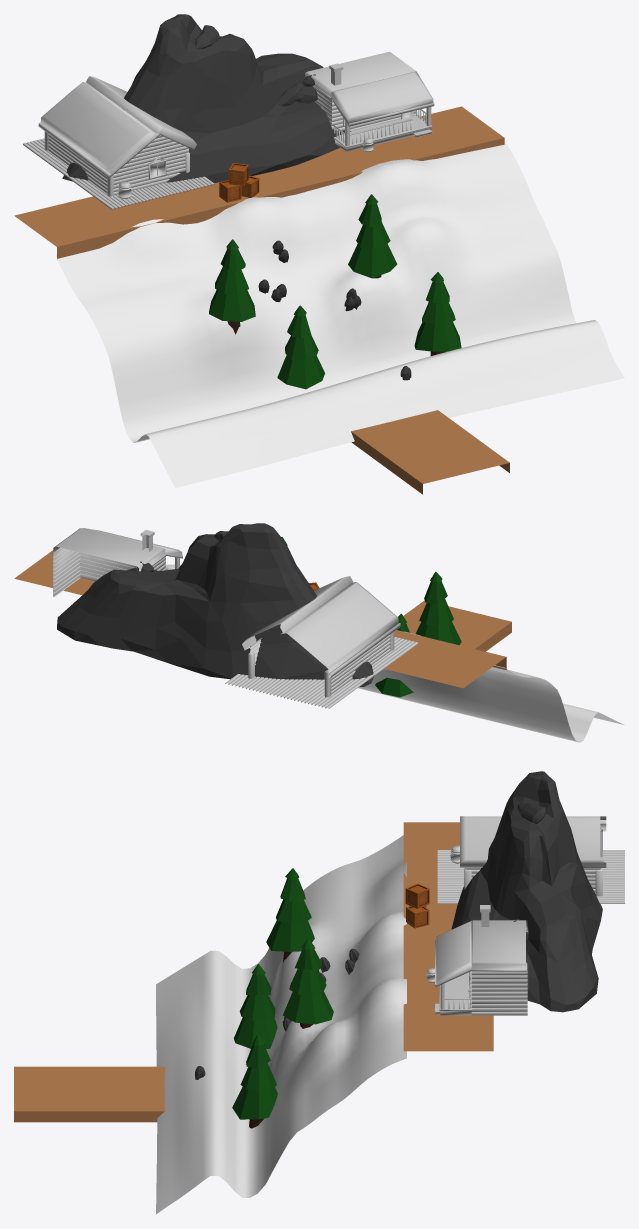
File: CenarioMenu.fbx
The picture shows the model from 3 angles, top to bottom: view 1: azimuth 30°, elevation 25°; view 2: azimuth 150°, elevation 25°; view 3: azimuth 270°, elevation 25°; orthographic projection. The views are drawn at different scales.
Parts seen in each view (by area): view 1: Caminho, Rochedo, Casa0, Casa1, Arvore0, Arvore1, Arvore2, Arvore3, CaixaMadeira; view 2: Rochedo, Caminho, Casa0, Casa1, Arvore0, Arvore3; view 3: Caminho, Rochedo, Casa1, Casa0, Arvore1, Arvore2, Arvore0, Arvore3, CaixaMadeira.
Part boxes in pixels (x1=…): Caminho: x1=14, y1=106, x2=624, y2=494; Rochedo: x1=62, y1=14, x2=351, y2=183; Casa0: x1=23, y1=76, x2=214, y2=209; Casa1: x1=304, y1=52, x2=434, y2=151; Arvore0: x1=209, y1=239, x2=255, y2=334; Arvore1: x1=348, y1=194, x2=397, y2=278; Arvore2: x1=414, y1=272, x2=461, y2=355; Arvore3: x1=277, y1=305, x2=324, y2=389; CaixaMadeira: x1=219, y1=163, x2=259, y2=202; Rochedo: x1=57, y1=523, x2=374, y2=686; Caminho: x1=14, y1=550, x2=623, y2=742; Casa0: x1=225, y1=576, x2=417, y2=708; Casa1: x1=52, y1=528, x2=182, y2=597; Arvore0: x1=415, y1=571, x2=461, y2=644; Arvore3: x1=375, y1=613, x2=413, y2=697; Caminho: x1=14, y1=822, x2=493, y2=1214; Rochedo: x1=451, y1=771, x2=602, y2=1012; Casa1: x1=426, y1=905, x2=527, y2=1015; Casa0: x1=437, y1=816, x2=624, y2=903; Arvore1: x1=282, y1=938, x2=333, y2=1028; Arvore2: x1=232, y1=1034, x2=277, y2=1128; Arvore0: x1=266, y1=868, x2=314, y2=962; Arvore3: x1=234, y1=964, x2=277, y2=1048; CaixaMadeira: x1=405, y1=883, x2=429, y2=928.
Bounding box in the file's own units: 3203 × 1979 × 3592.
